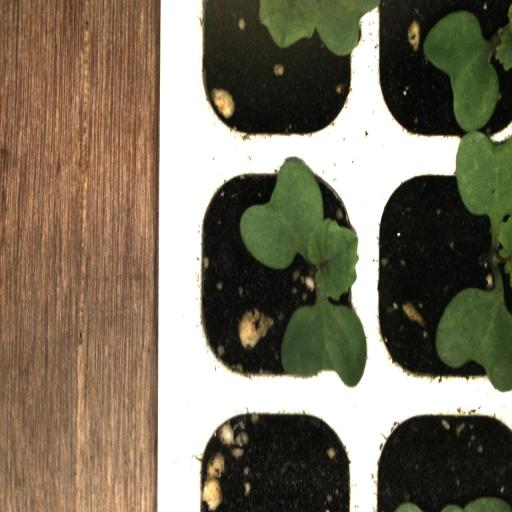Folha: (423, 10, 512, 276), (248, 0, 381, 57)
Germinacao: (184, 148, 372, 400), (372, 147, 512, 398)
